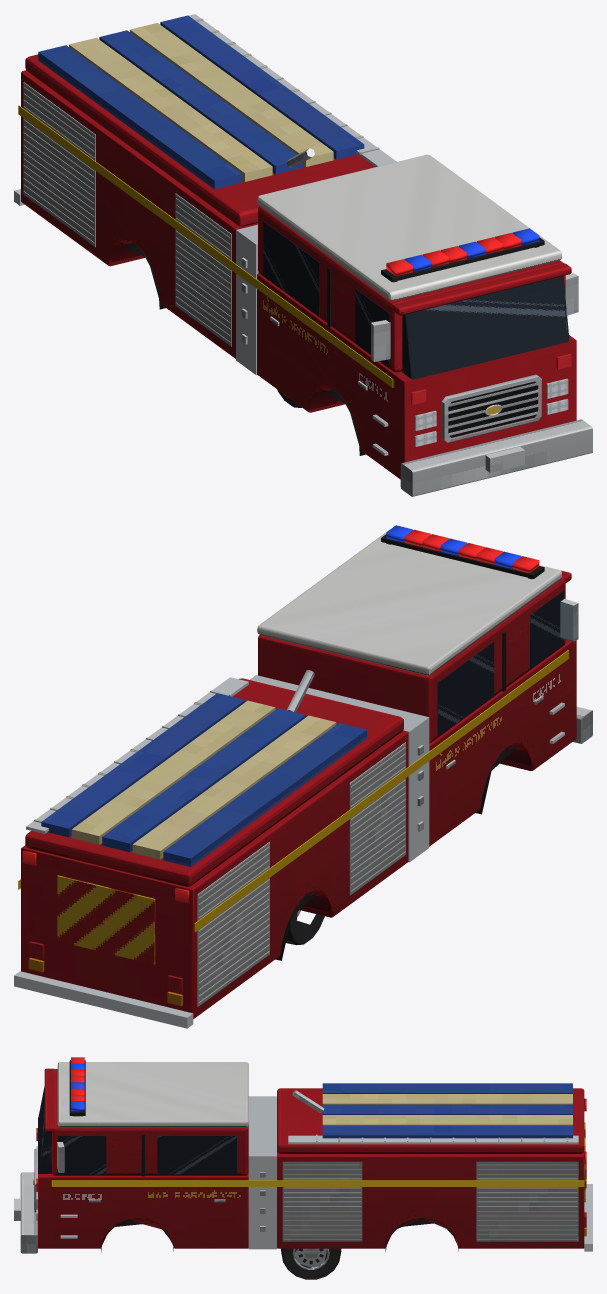
The model's file is pumper12.glb.
The picture shows the model from 3 angles, top to bottom: view 1: azimuth 30°, elevation 25°; view 2: azimuth 150°, elevation 25°; view 3: azimuth 270°, elevation 25°; orthographic projection. The views are drawn at different scales.
Visible parts, largest first — view 1: Body, Paint, Paint_far, BarR, BarB; view 2: Body, Paint, Paint_far, BarR, BarB; view 3: Body, Paint, Paint_far, Wheel_far, Wheel, Body_far, BarR, BarB.
Part boxes in pixels (box(x1,y1,x2,y2)): Body: box(14, 14, 592, 496); Paint: box(21, 54, 576, 479); Paint_far: box(23, 57, 571, 478); BarR: box(386, 233, 521, 276); BarB: box(404, 228, 539, 271); Body: box(14, 530, 592, 1028); Paint: box(21, 570, 576, 1018); Paint_far: box(35, 573, 575, 920); BarR: box(22, 529, 539, 903); BarB: box(386, 525, 521, 568); Body: box(14, 1060, 592, 1253); Paint: box(38, 1068, 584, 1248); Paint_far: box(38, 1088, 583, 1248); Wheel_far: box(282, 1248, 340, 1279); Wheel: box(281, 1248, 341, 1279); Body_far: box(34, 1071, 521, 1238); BarR: box(71, 1057, 586, 1164); BarB: box(71, 1063, 84, 1111).
Bounding box in the file's own units: 2.95 × 3.78 × 10.17.
5 materials, 3 textured.
